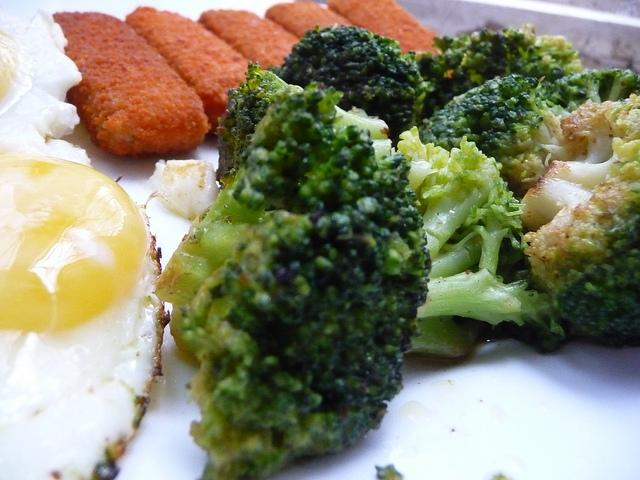broccoli: (153, 61, 433, 479), (519, 92, 640, 344), (267, 22, 434, 148), (418, 74, 576, 199), (416, 23, 586, 122), (418, 269, 566, 352), (568, 68, 608, 104)
